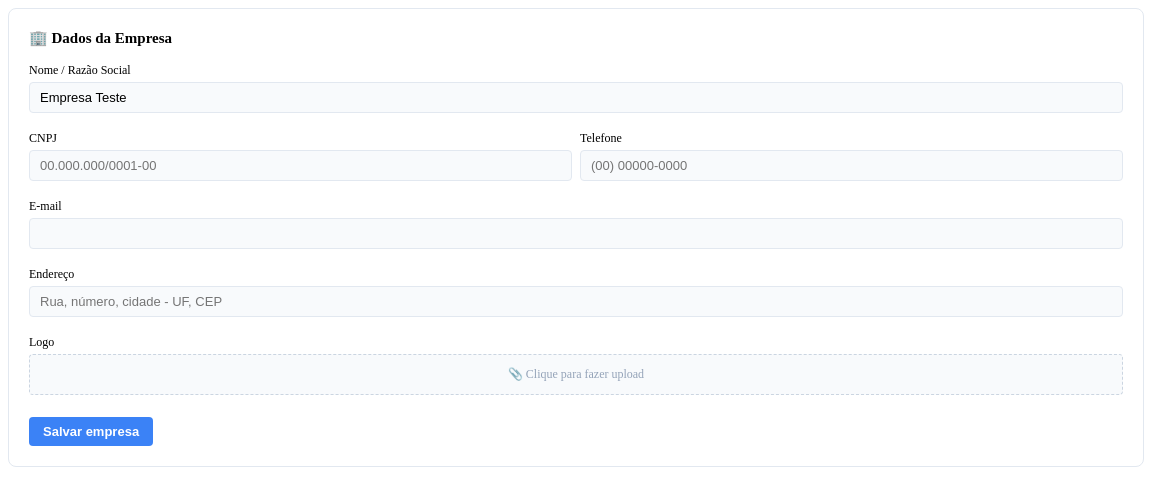
Test: EmpresaCard — salvar › shows success message after save
Expected: the field showing "Empresa Teste" below "Nome / Razão Social" is shown, [29,82,1123,113]
Click the button "Salvar empresa": (91, 432) [29,417,153,446]
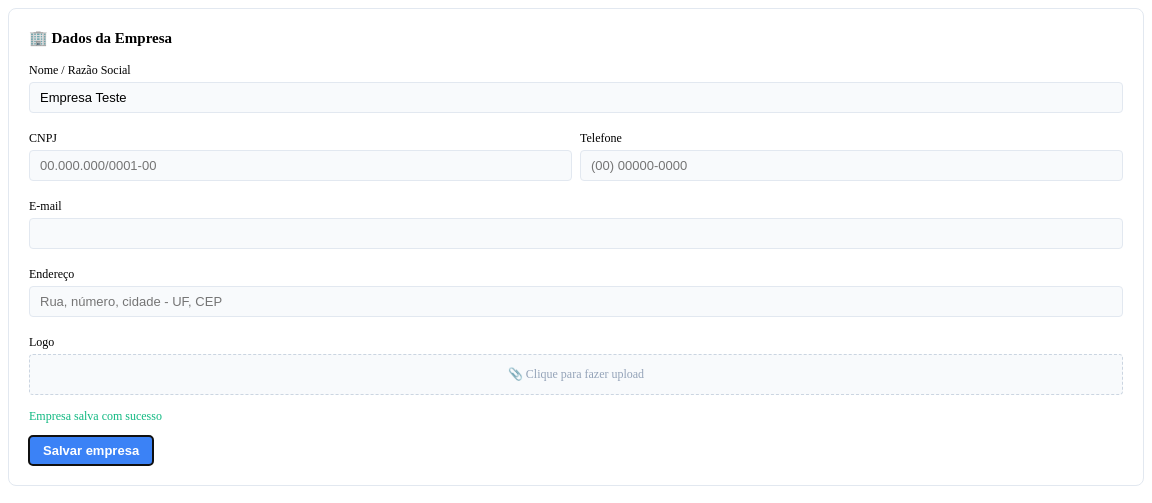
Now the text "Empresa salva com sucesso" is shown, box [29,409,162,423]
